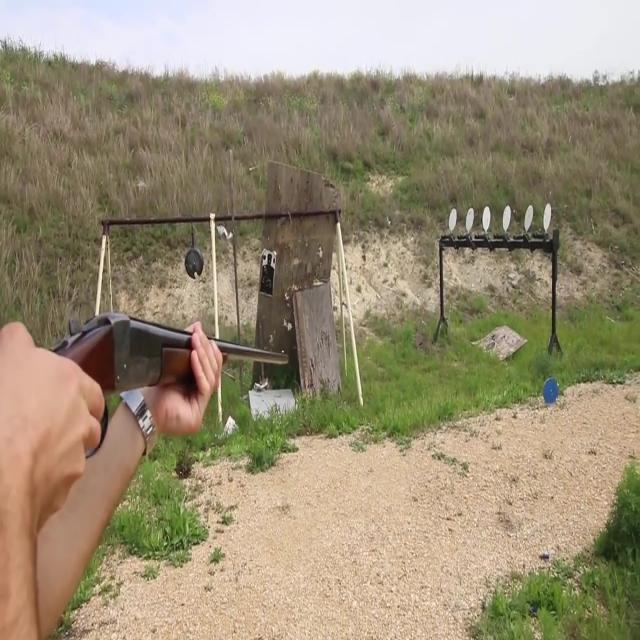Weapon: (22, 247, 298, 512)
